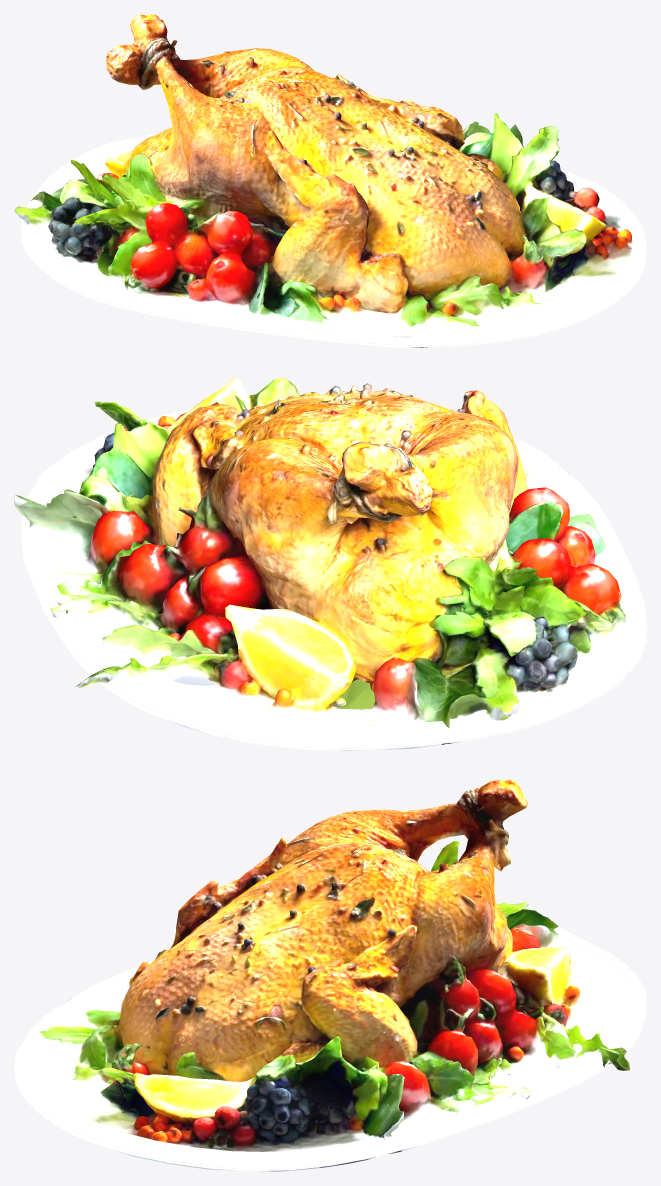
The model's file is pato-assado.glb.
3 views of the same model, one above another, from view 1: azimuth 30°, elevation 25°; view 2: azimuth 150°, elevation 25°; view 3: azimuth 270°, elevation 25° (orthographic). The views are drawn at different scales.
Parts seen in each view (by area): view 1: Object_4, Object_5; view 2: Object_4, Object_5; view 3: Object_4, Object_5.
Part boxes in pixels (x1,y1,x2,y2): Object_4: (14,14,632,347); Object_5: (20,132,646,347); Object_4: (14,376,628,750); Object_5: (21,408,646,749); Object_4: (29,779,631,1171); Object_5: (14,927,646,1171).
Bounding box in the file's own units: 0.2723 × 0.1005 × 0.2787.
Materials: 2 (1 with a texture image).
